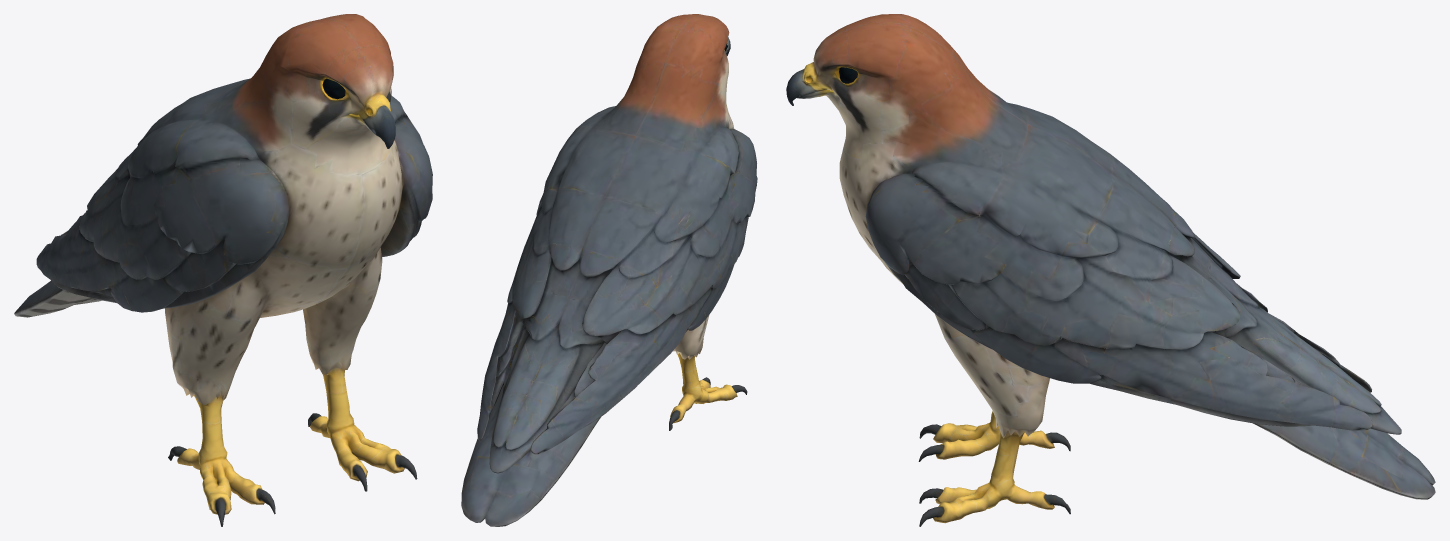
Rendered from falcon-hayate.glb.
3 views of the same model, side by side, from view 1: azimuth 30°, elevation 25°; view 2: azimuth 150°, elevation 25°; view 3: azimuth 270°, elevation 25° (orthographic). The views are drawn at different scales.
Visible parts, largest first — view 1: geometry_0; view 2: geometry_0; view 3: geometry_0.
Boxes of the visible parts, box(x1,y1,x2,y2) form: geometry_0: box(14, 14, 432, 526); geometry_0: box(461, 14, 757, 526); geometry_0: box(786, 14, 1435, 526).
Bounding box in the file's own units: 0.4019 × 0.7569 × 0.9536.
1 material, 1 textured.
